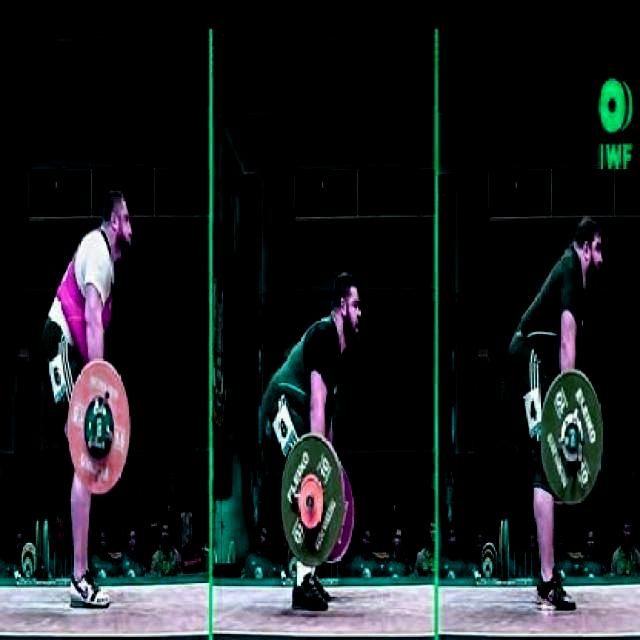barbell: (532, 365, 610, 510), (64, 352, 135, 500), (277, 430, 349, 570)
